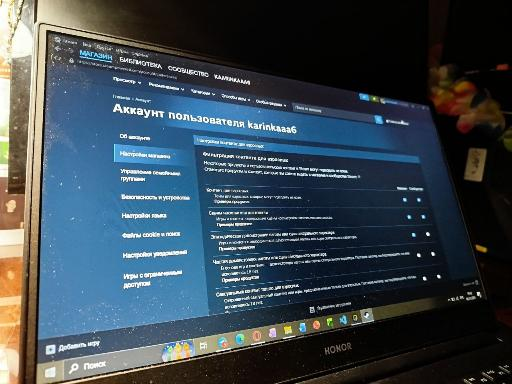steam: (48, 59, 482, 331)
